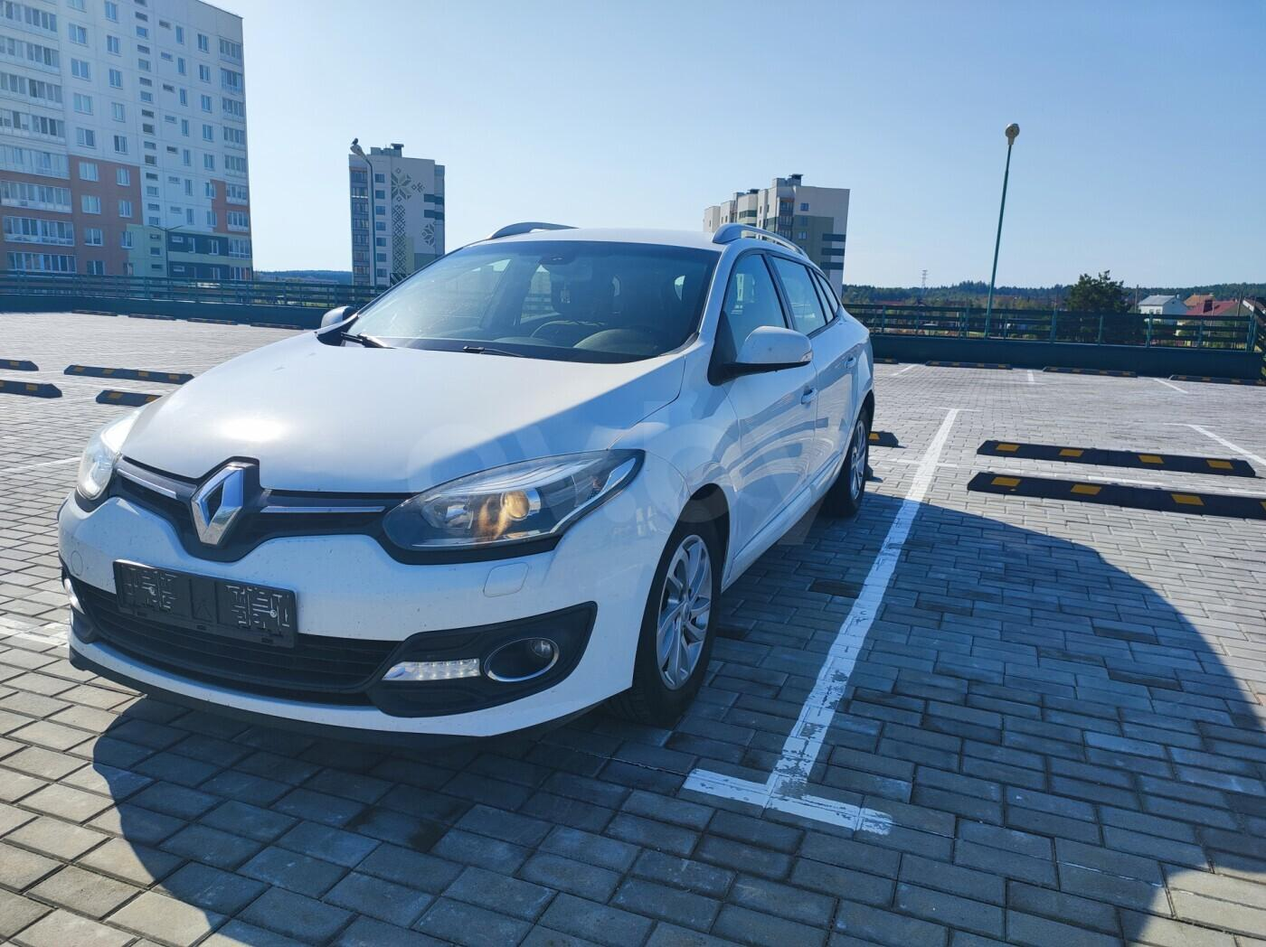Megane_2012-2014: (37, 223, 886, 724)
